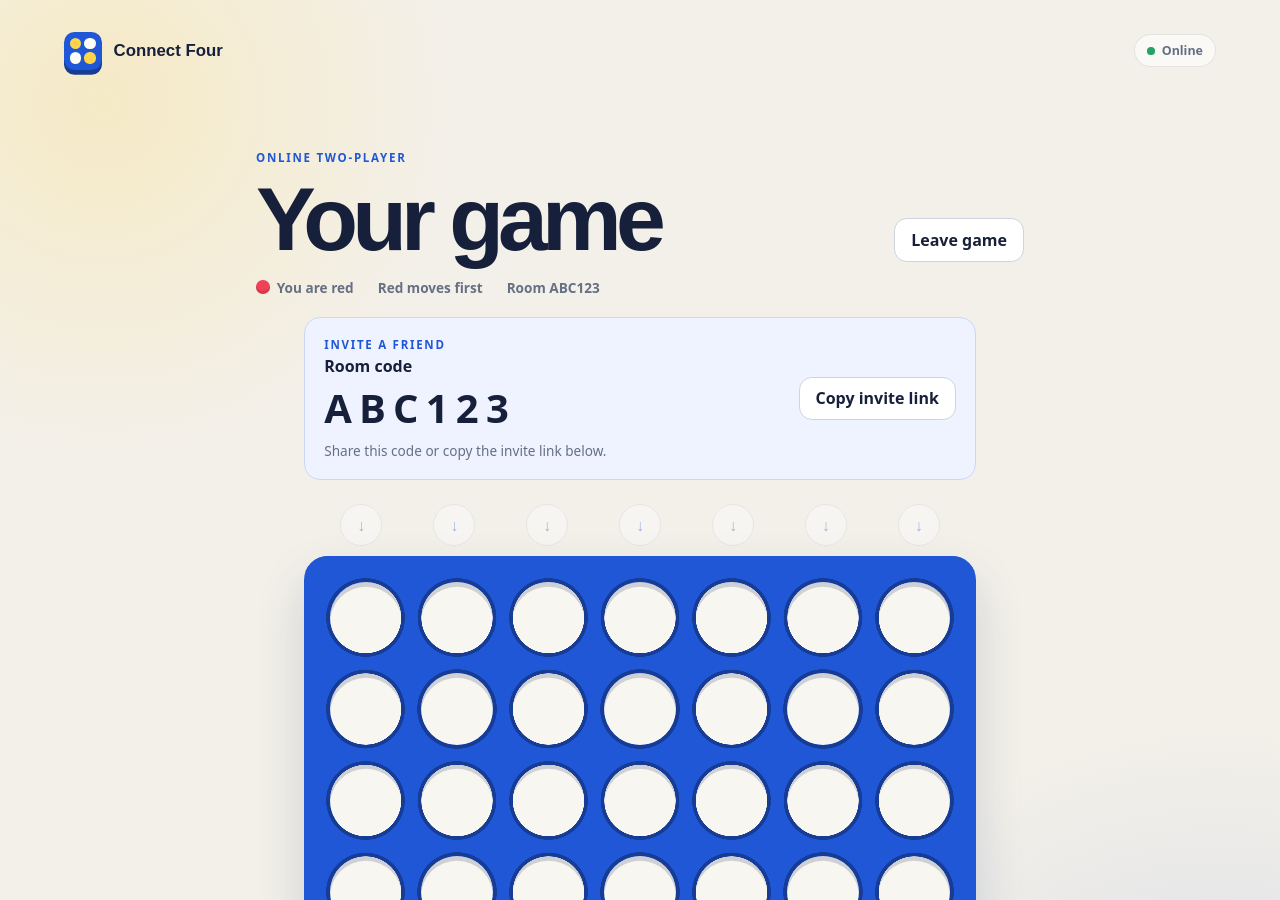
Test: App › keeps the room code visible when clipboard access fails
Click the button "Copy invite link": {"x": 877, "y": 398} [798,377,956,420]
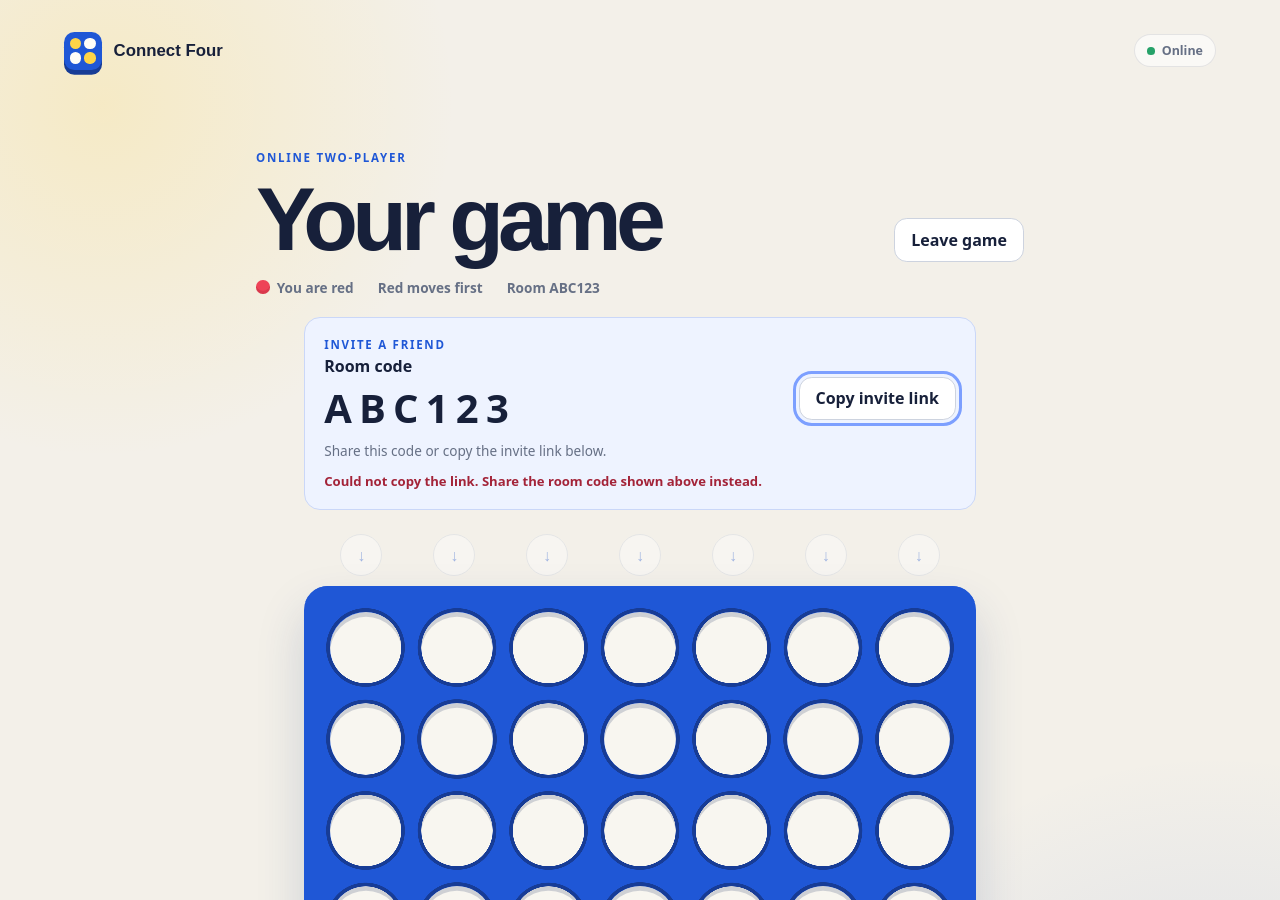
Expected: the text named "Room code ABC123" reads "ABC123", [324,380,516,435]
Result: the message reads "Could not copy the link. Share the room code shown above instead." at [324,472,762,490]
